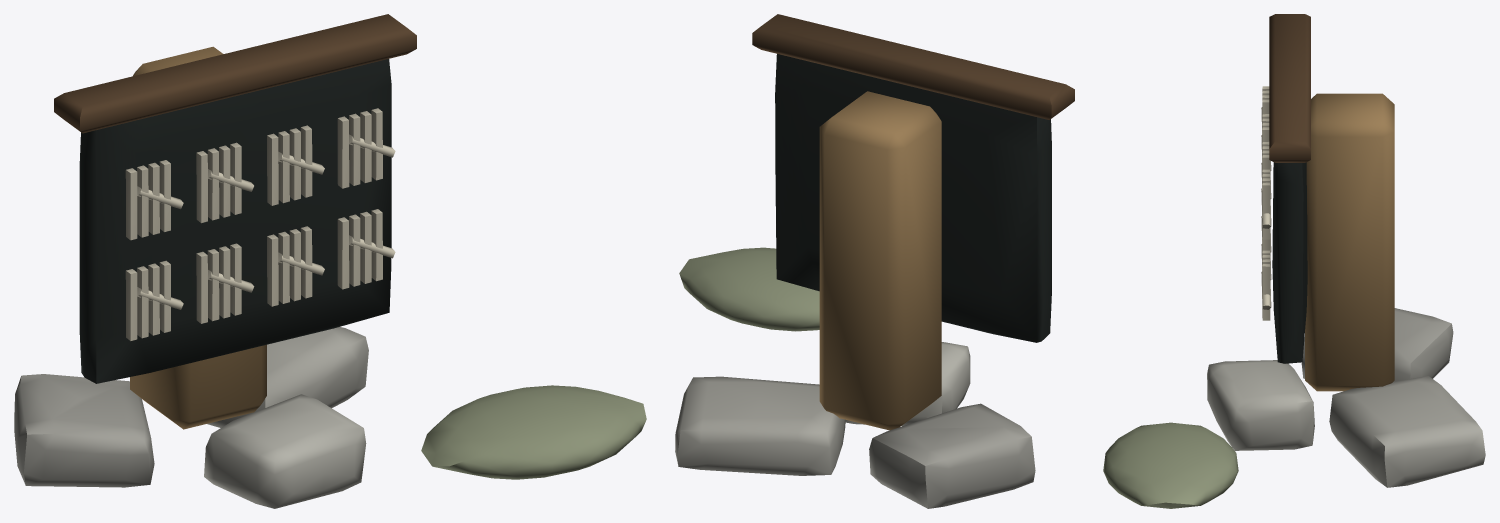
File: tally_post_a_lod1.glb
3 views of the same model, side by side, from view 1: azimuth 30°, elevation 25°; view 2: azimuth 150°, elevation 25°; view 3: azimuth 270°, elevation 25° (orthographic). The views are drawn at different scales.
Parts seen in each view (by area): view 1: Surface.001; view 2: Surface.001; view 3: Surface.001.
Boxes of the visible parts, x1,y1,x2,y2 form: Surface.001: (14,14,646,508); Surface.001: (675,14,1074,508); Surface.001: (1103,14,1485,508).
Size of the model in its own units: 1.57 by 1.27 by 1.28.
